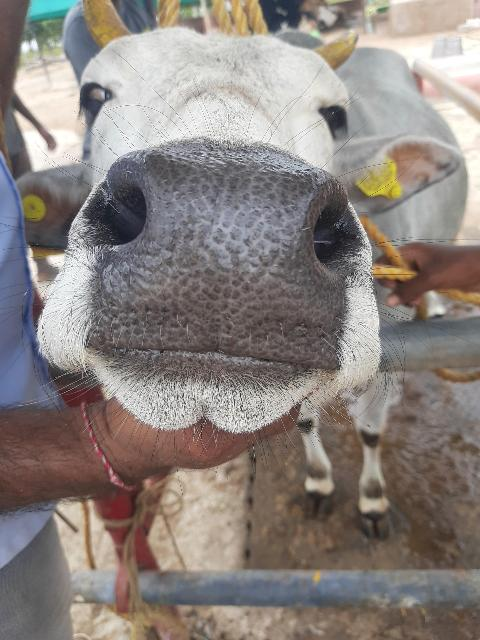Muzzle: (111, 153, 341, 363)
